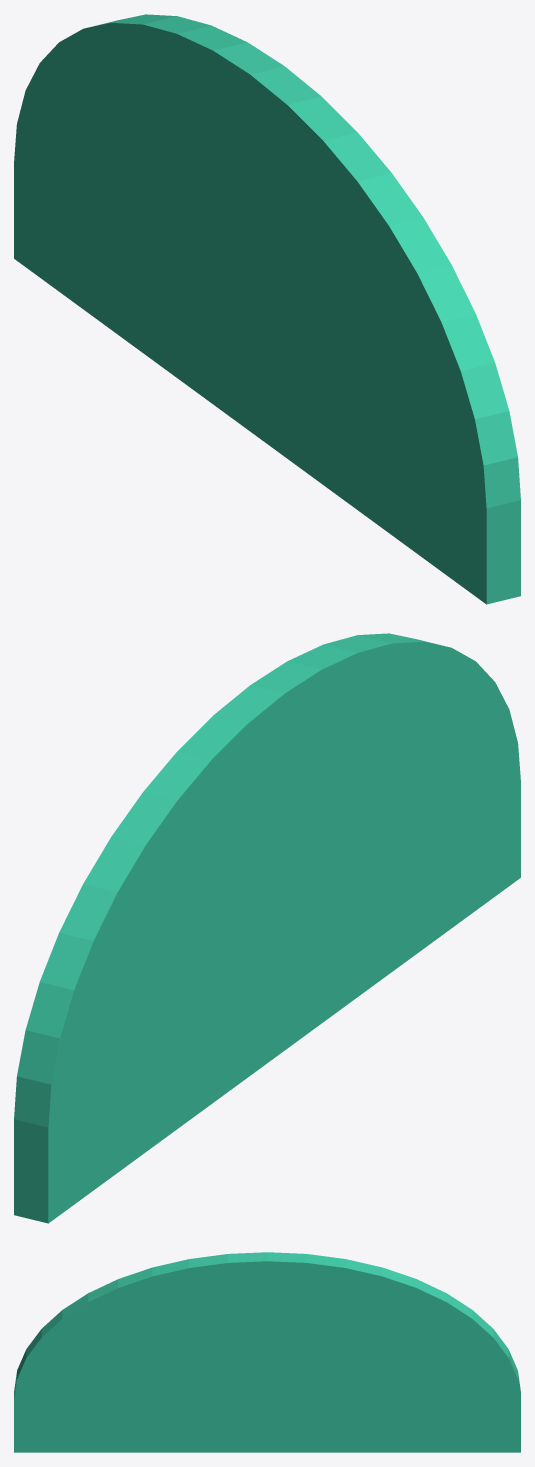
File: D_Machine_Front.fbx
3 renders of one model, top to bottom at view 1: azimuth 30°, elevation 25°; view 2: azimuth 150°, elevation 25°; view 3: azimuth 270°, elevation 25°, orthographic. The views are drawn at different scales.
Parts seen in each view (by area): view 1: D_Machine_Front; view 2: D_Machine_Front; view 3: D_Machine_Front.
Part boxes in pixels (box(x1,y1,x2,y2)): D_Machine_Front: box(14, 14, 520, 604); D_Machine_Front: box(14, 633, 520, 1223); D_Machine_Front: box(14, 1252, 520, 1452).
Size of the model in its own units: 3.03 by 30.04 by 72.07.
